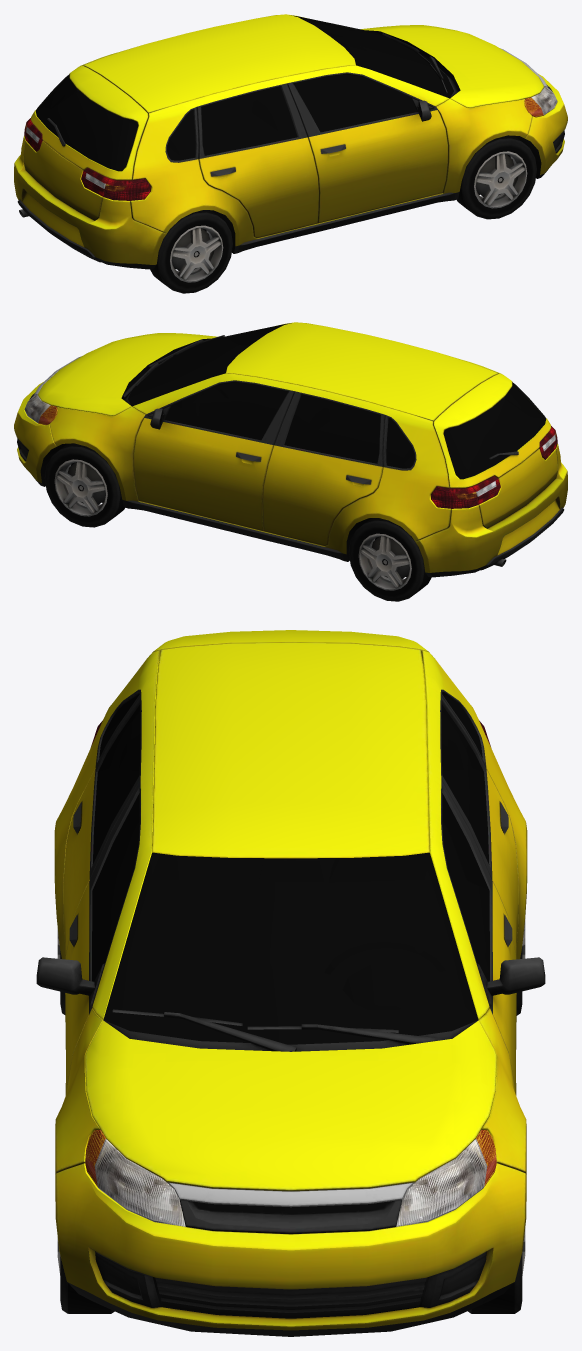
File: hatchback.glb
3 views of the same model, one above another, from view 1: azimuth 30°, elevation 25°; view 2: azimuth 150°, elevation 25°; view 3: azimuth 270°, elevation 25° (orthographic). The views are drawn at different scales.
Parts seen in each view (by area): view 1: body, wheel (×2); view 2: body, wheel (×2); view 3: body, wheel (×2).
Part boxes in pixels (bbox=[...]): body: bbox=[14, 14, 567, 269]; wheel (×2): bbox=[150, 135, 536, 293]; body: bbox=[14, 322, 567, 577]; wheel (×2): bbox=[44, 443, 431, 601]; body: bbox=[36, 630, 545, 1336]; wheel (×2): bbox=[57, 1229, 525, 1313].
Bounding box in the file's own units: 3.96 × 1.35 × 1.74.
4 materials, 3 textured.
